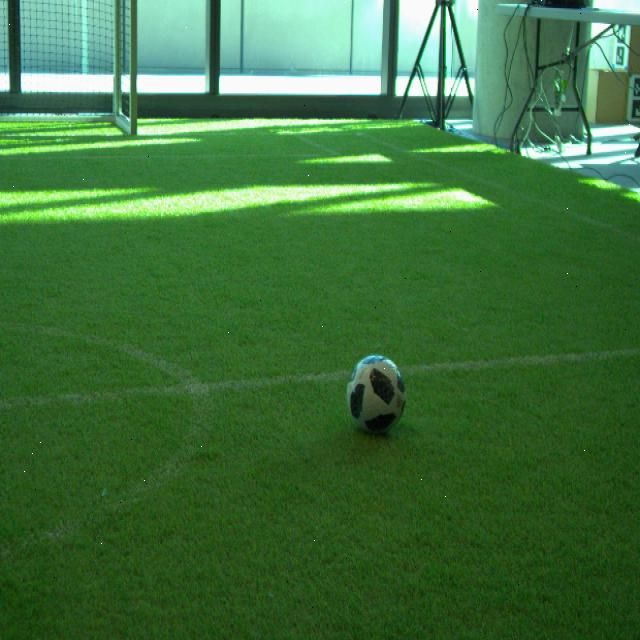ball: (345, 356, 408, 437)
goalpost: (131, 0, 138, 136)
